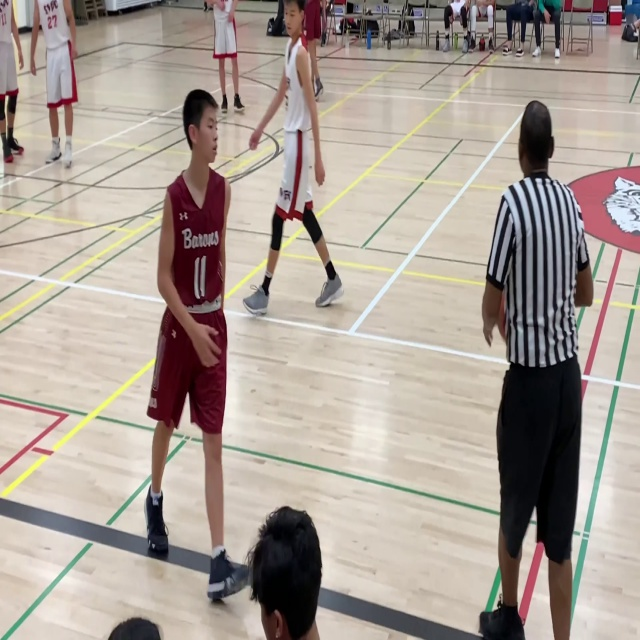Basketball: (107, 616, 162, 640)
